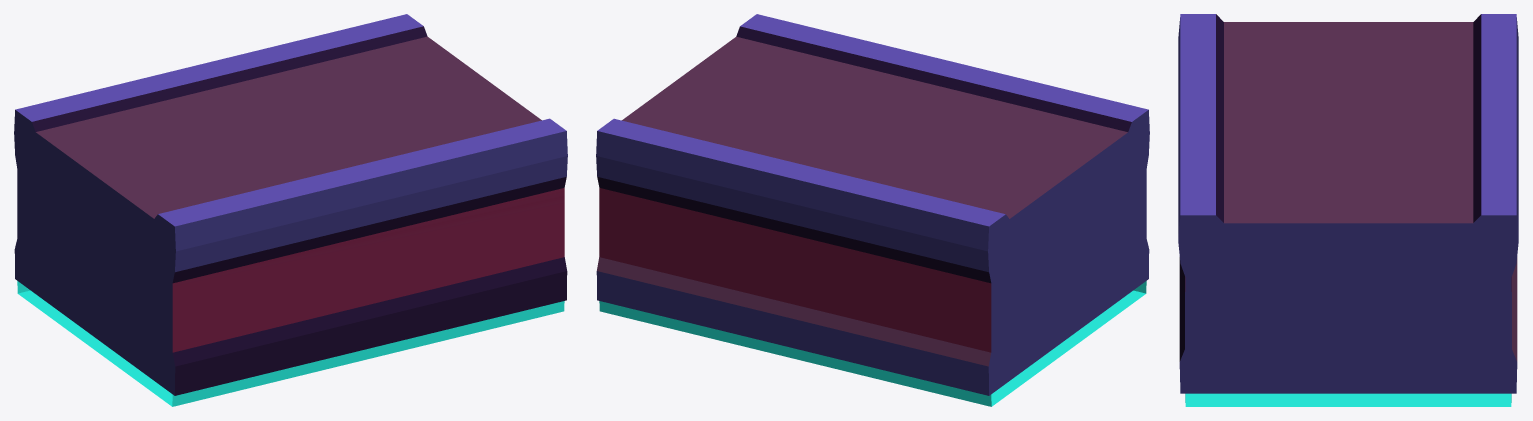
File: barra_01.FBX
3 renders of one model, left to right at view 1: azimuth 30°, elevation 25°; view 2: azimuth 150°, elevation 25°; view 3: azimuth 270°, elevation 25°, orthographic. The views are drawn at different scales.
Parts seen in each view (by area): view 1: Cylinder006; view 2: Cylinder006; view 3: Cylinder006.
Boxes of the visible parts, x1=… form: Cylinder006: x1=14, y1=14, x2=567, y2=406; Cylinder006: x1=596, y1=14, x2=1149, y2=406; Cylinder006: x1=1178, y1=14, x2=1518, y2=406.
Bounding box in the file's own units: 49.08 × 21.81 × 35.1.
